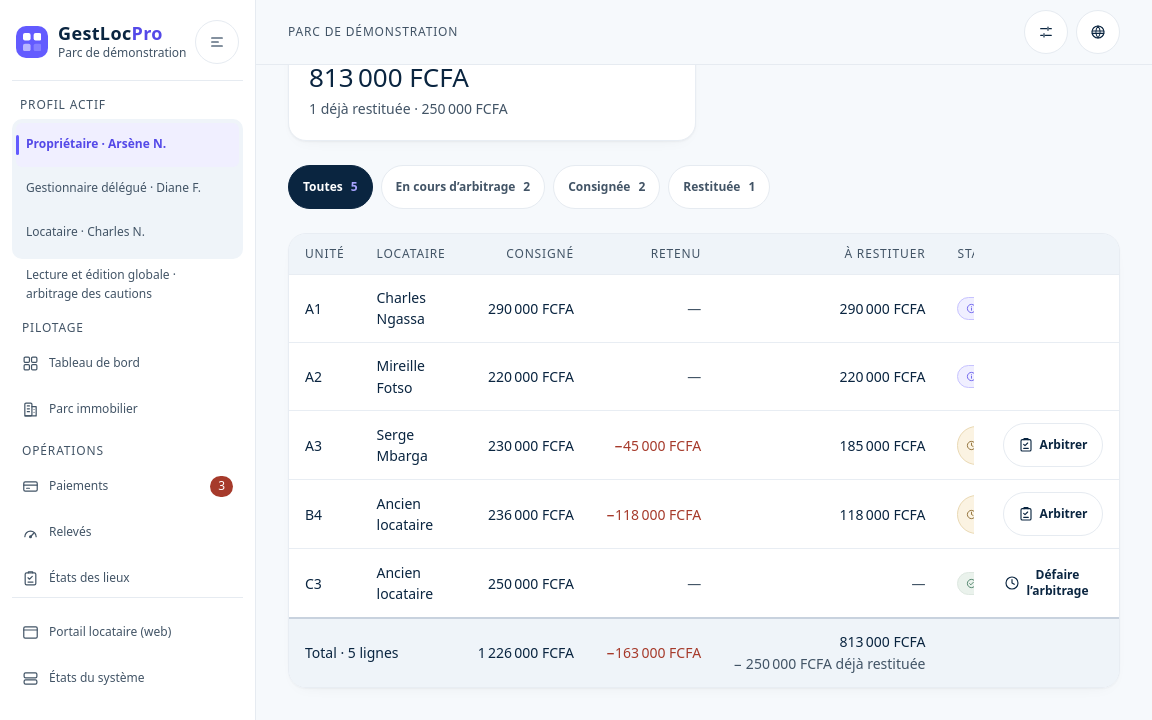
Test: défaire un arbitrage de caution, hors du toast › offre le geste sur une caution déjà arbitrée
(page scrolled)
Click the button "Arbitrer" in the row of "A3".
click(1053, 445)  # box [1003, 423, 1103, 467]
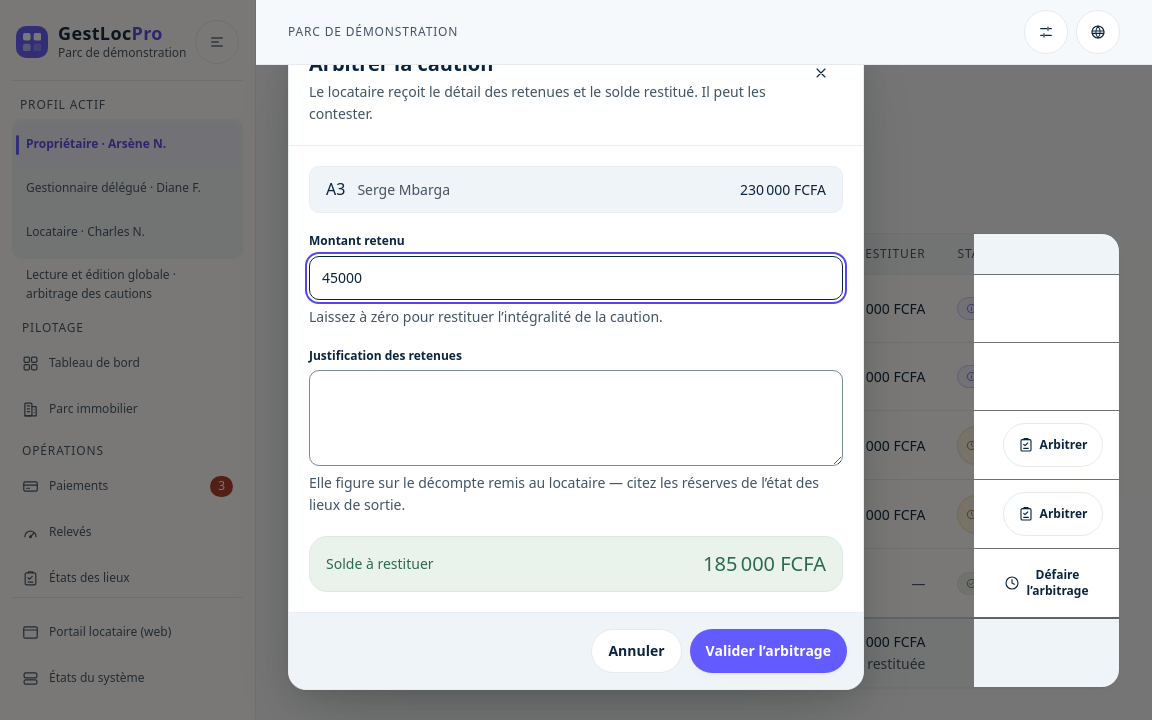
Type "Réserves de l’état des lieux." into the text box labelled "Justification des retenues".
click(576, 418); type("Réserves de l’état des lieux.")  # box [309, 370, 843, 466]
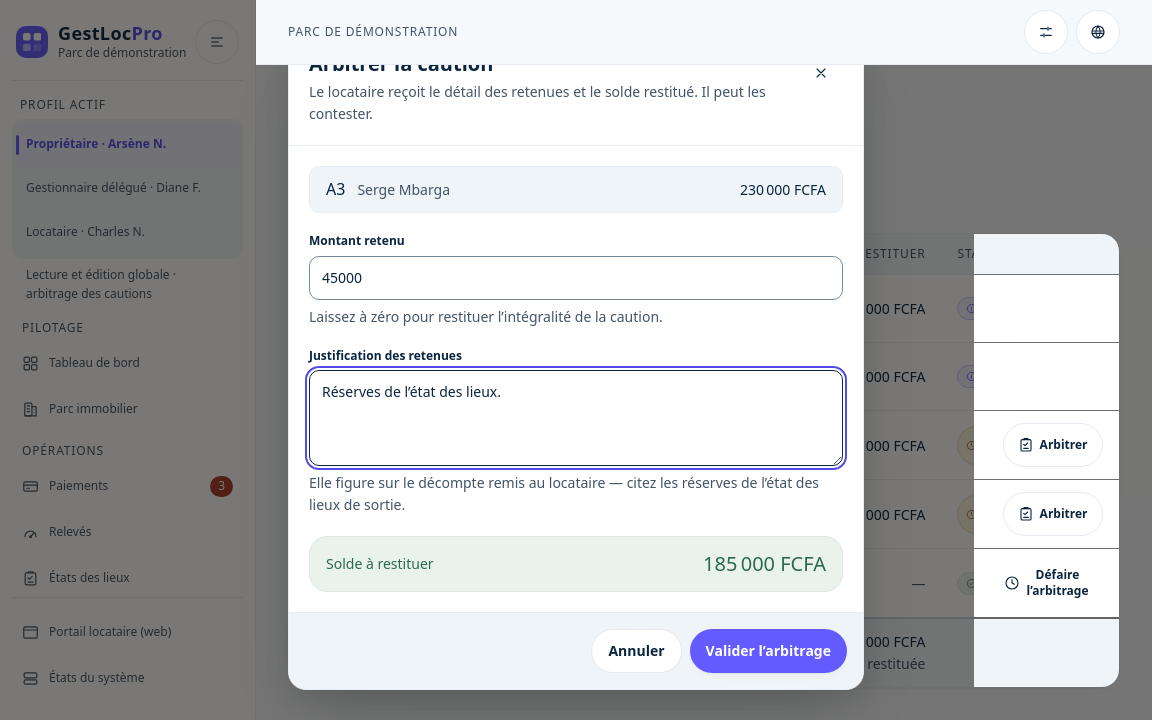
Click the button "Valider l’arbitrage".
click(768, 651)  # box [690, 629, 847, 673]
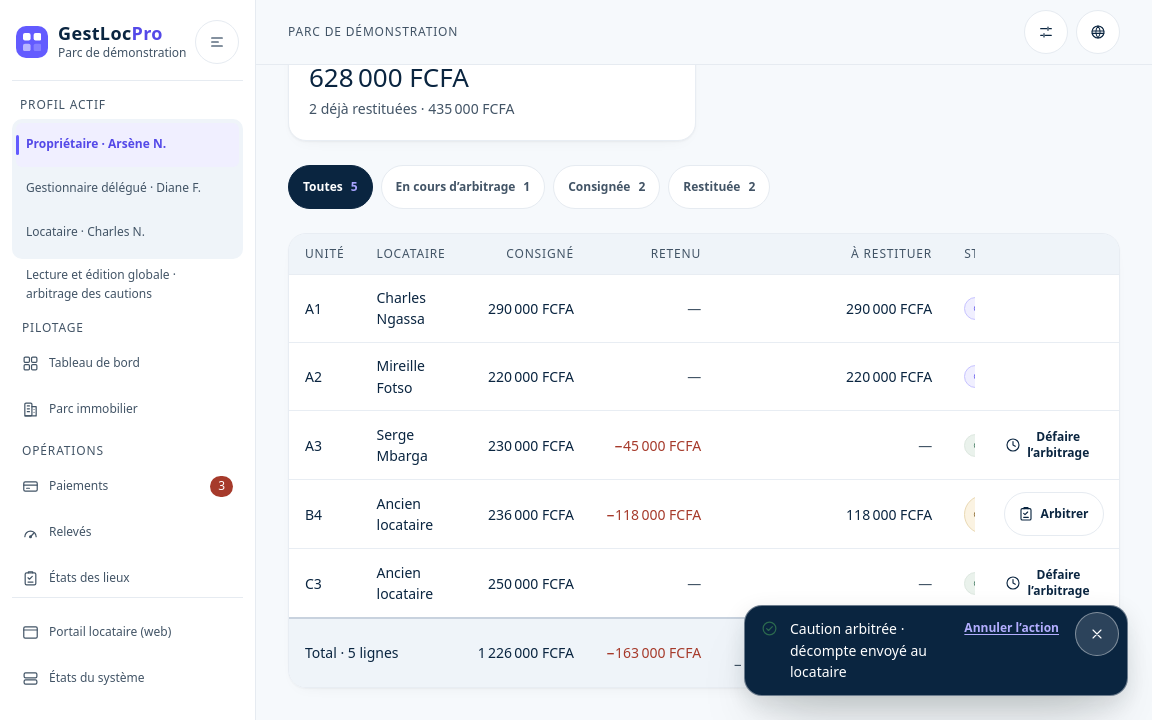
Expected: the button "Défaire l’arbitrage" in the row of "A3" is shown
Click the button "Défaire l’arbitrage" in the row of "A3".
click(1047, 445)  # box [991, 423, 1103, 467]
(page scrolled)
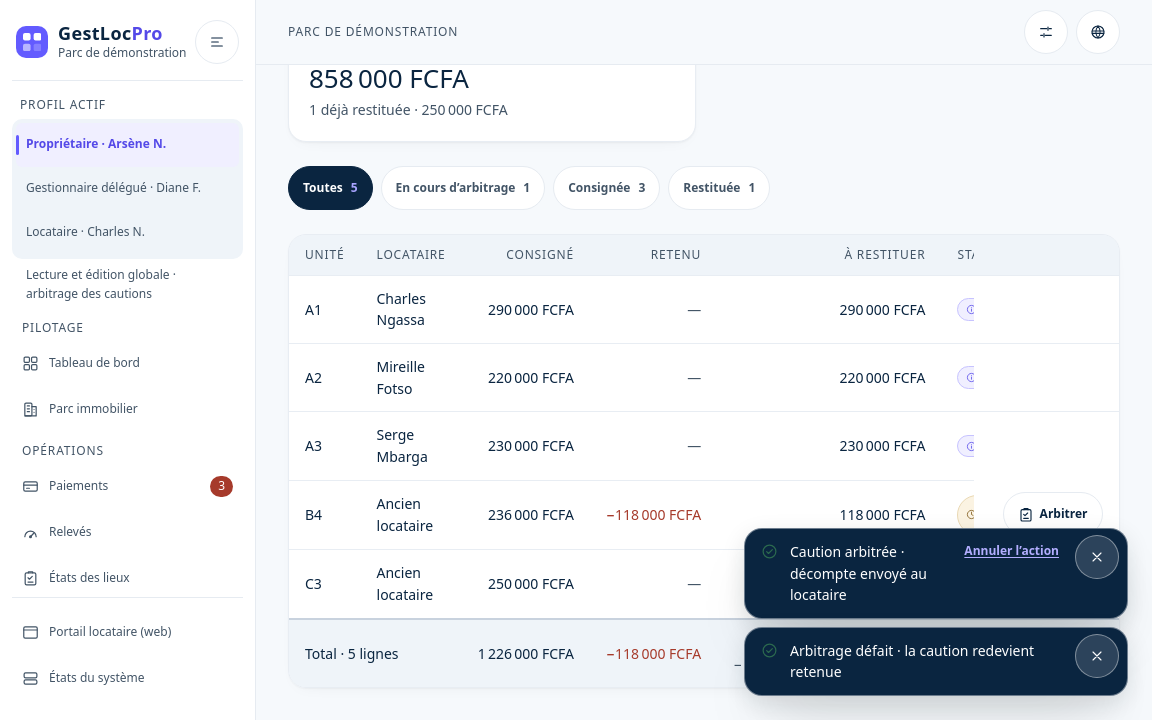
Expected: the text "Arbitrage défait · la caution redevient retenue" is shown, [790, 640, 1063, 683]
